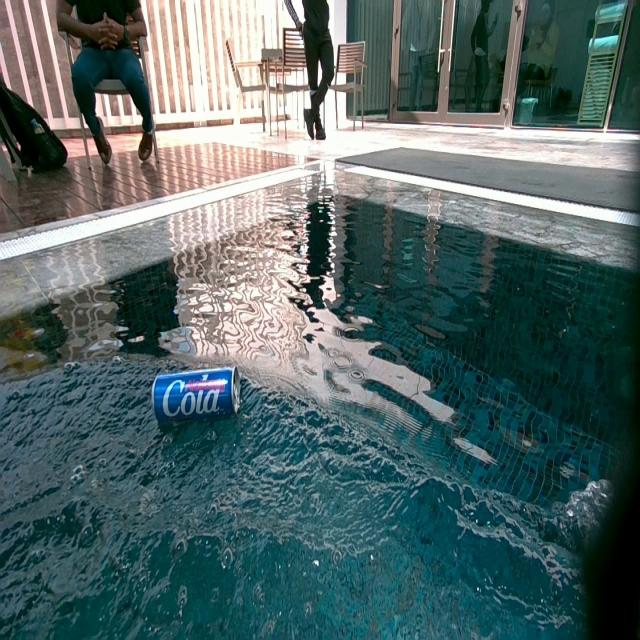Cans: (153, 366, 242, 426)
